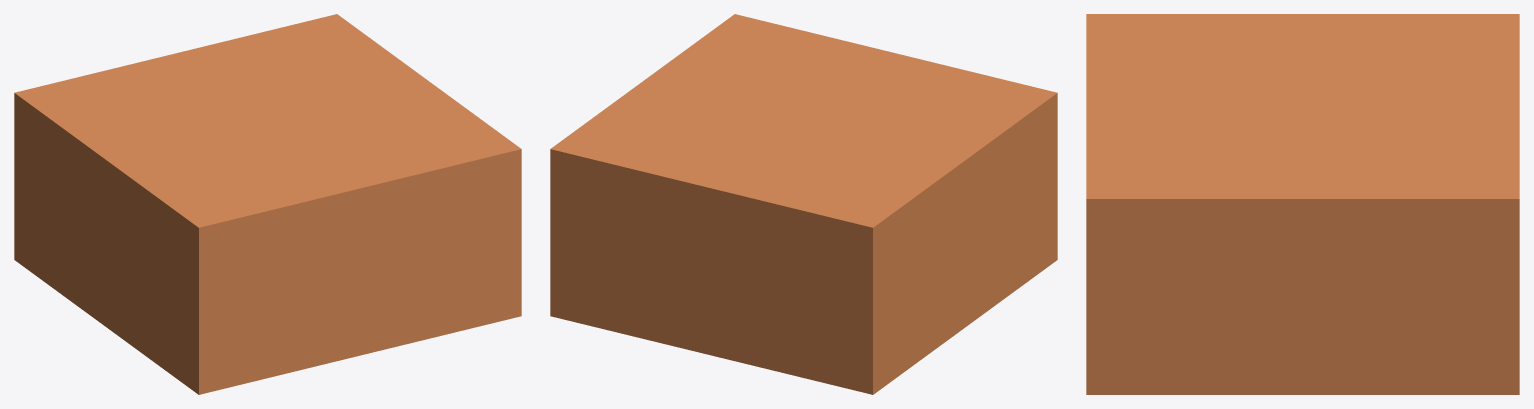
File: agaveplant.DAE
3 renders of one model, left to right at view 1: azimuth 30°, elevation 25°; view 2: azimuth 150°, elevation 25°; view 3: azimuth 270°, elevation 25°, orthographic. The views are drawn at different scales.
Parts seen in each view (by area): view 1: bounds; view 2: bounds; view 3: bounds.
Boxes of the visible parts, box(x1,y1,x2,y2) form: bounds: box(14, 14, 521, 394); bounds: box(550, 14, 1057, 394); bounds: box(1086, 14, 1519, 394).
Bounding box in the file's own units: 2.83 × 2.8 × 1.4.
